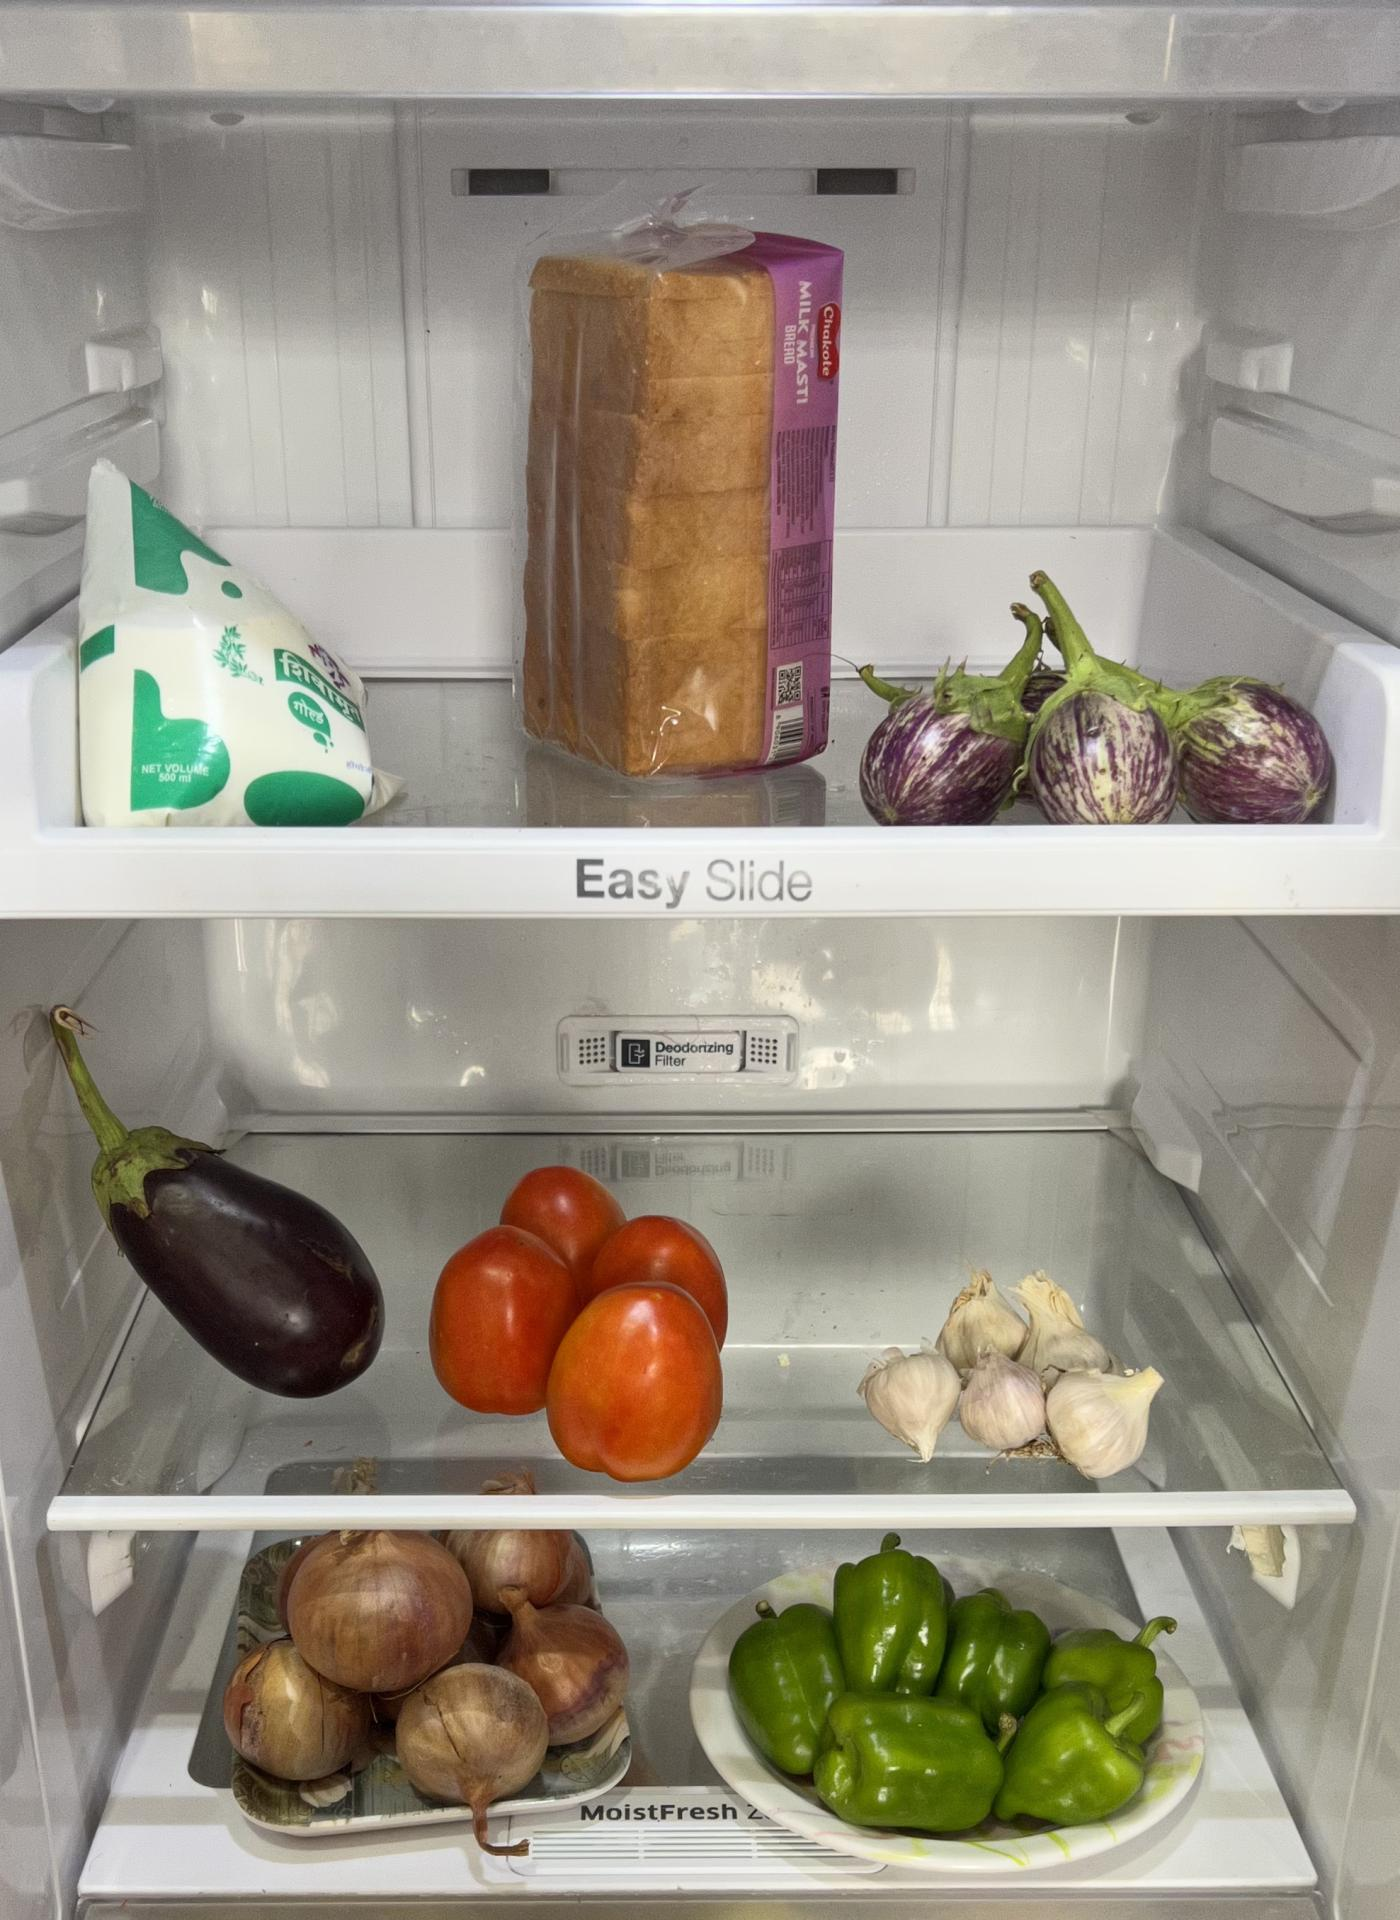bread: (507, 204, 860, 796)
capsicum: (725, 1547, 1166, 1822)
garlic: (862, 1272, 1181, 1479)
milk: (60, 444, 394, 824)
onion: (225, 1522, 629, 1805)
tomato: (428, 1154, 737, 1485)
